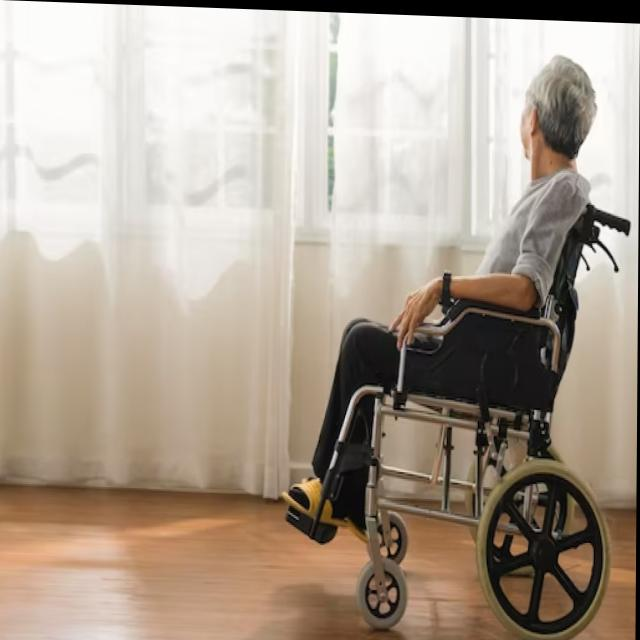wheelchair: (278, 36, 632, 640)
